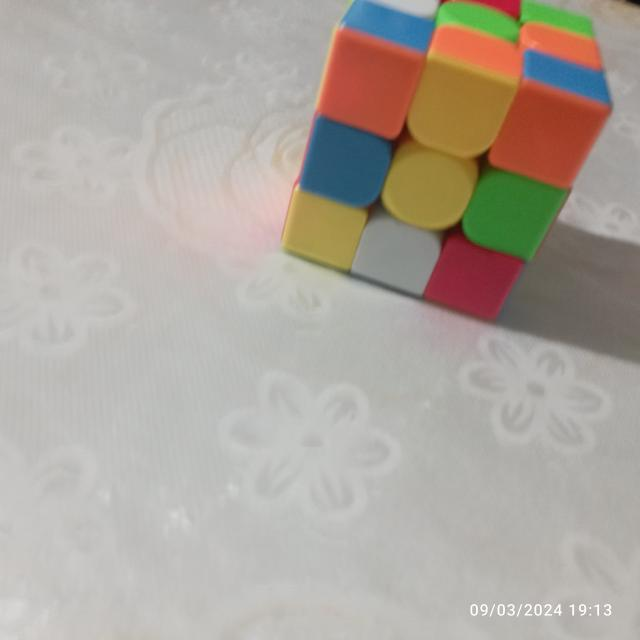Rub: (276, 0, 613, 329)
